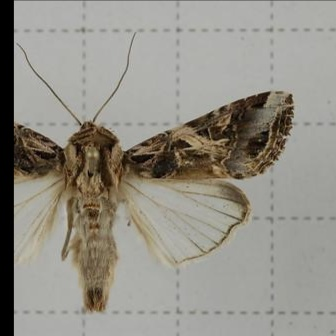Spodoptera litura: (13, 32, 294, 313)
